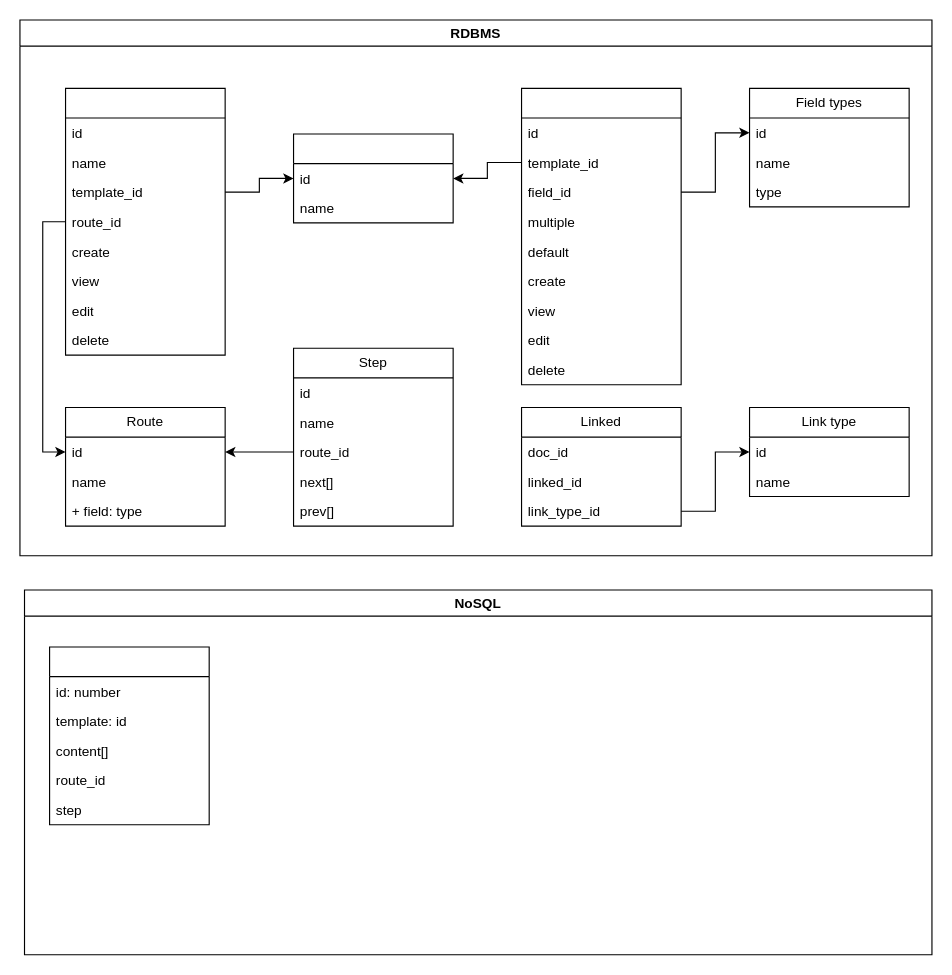
This 952x975 diagram has some shape labels left out. Each missing label, with the box of its shape:
Document type: (64, 87, 225, 355)
Documents: (48, 646, 209, 825)
Template: (292, 133, 453, 223)
Template field: (520, 87, 681, 385)
